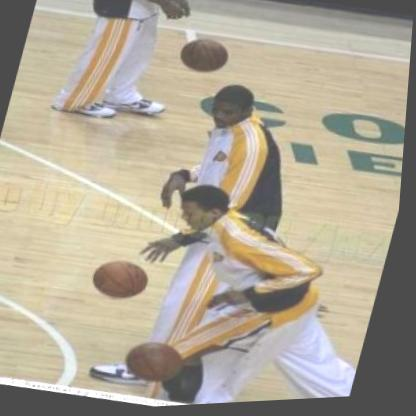basketball: (86, 248, 162, 316), (170, 29, 238, 85)
